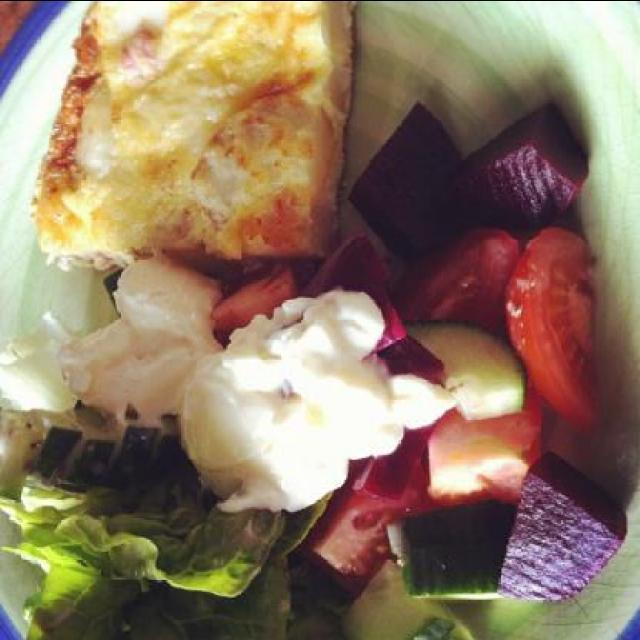Cheese: (32, 1, 354, 288), (172, 284, 450, 528), (58, 260, 230, 436), (0, 316, 64, 422)
